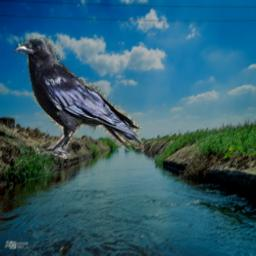Crow: (14, 33, 144, 159)
